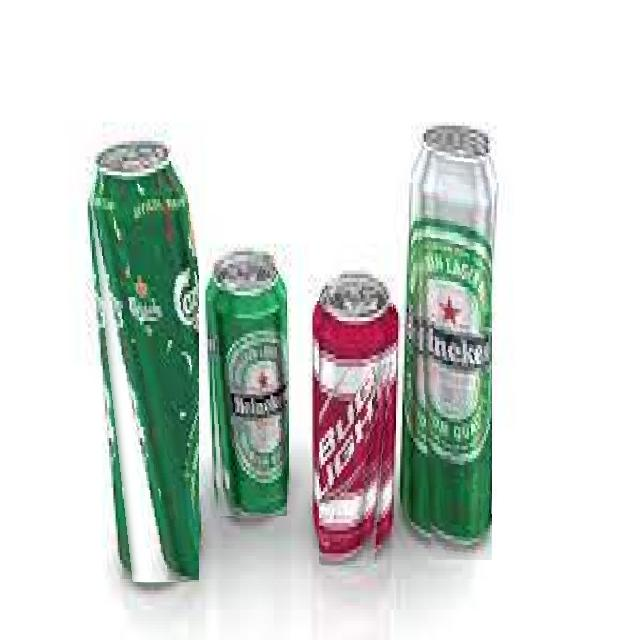Cans: (86, 152, 200, 582), (413, 135, 492, 560), (319, 282, 395, 566), (208, 255, 288, 516)
